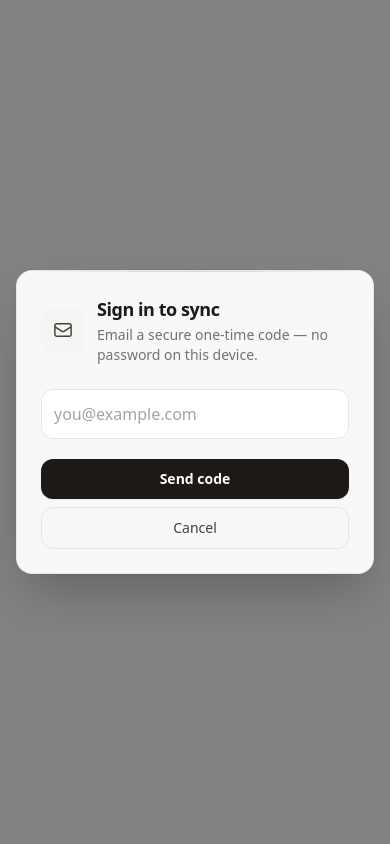
Test case: SendCodeModal › advances to code step after a successful send
Step 1. Type "reader@example.com" into the field with placeholder "you@example.com" → (195, 414), box x1=41 y1=389 x2=349 y2=439
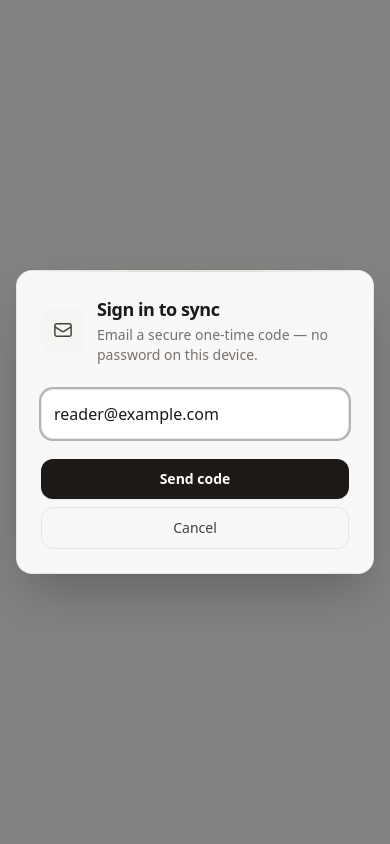
Step 2. Click the button "Send code" → (195, 479), box x1=41 y1=459 x2=349 y2=499
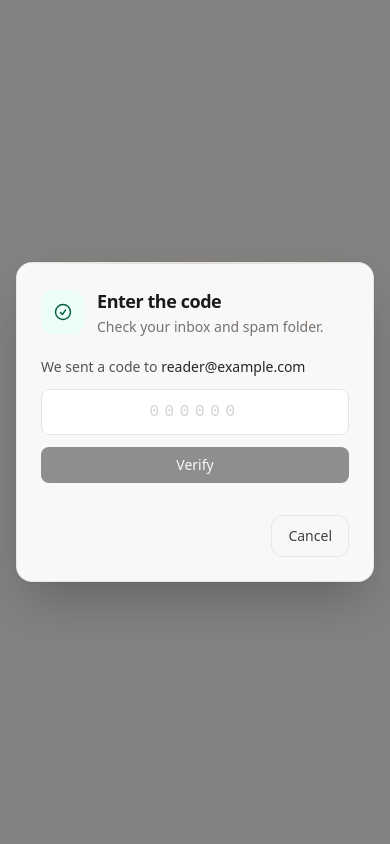
Expected: the heading "Enter the code" is shown, x1=97 y1=289 x2=221 y2=313
Expected: the text "We sent a code to reader@example.com" is shown, x1=41 y1=357 x2=349 y2=377
